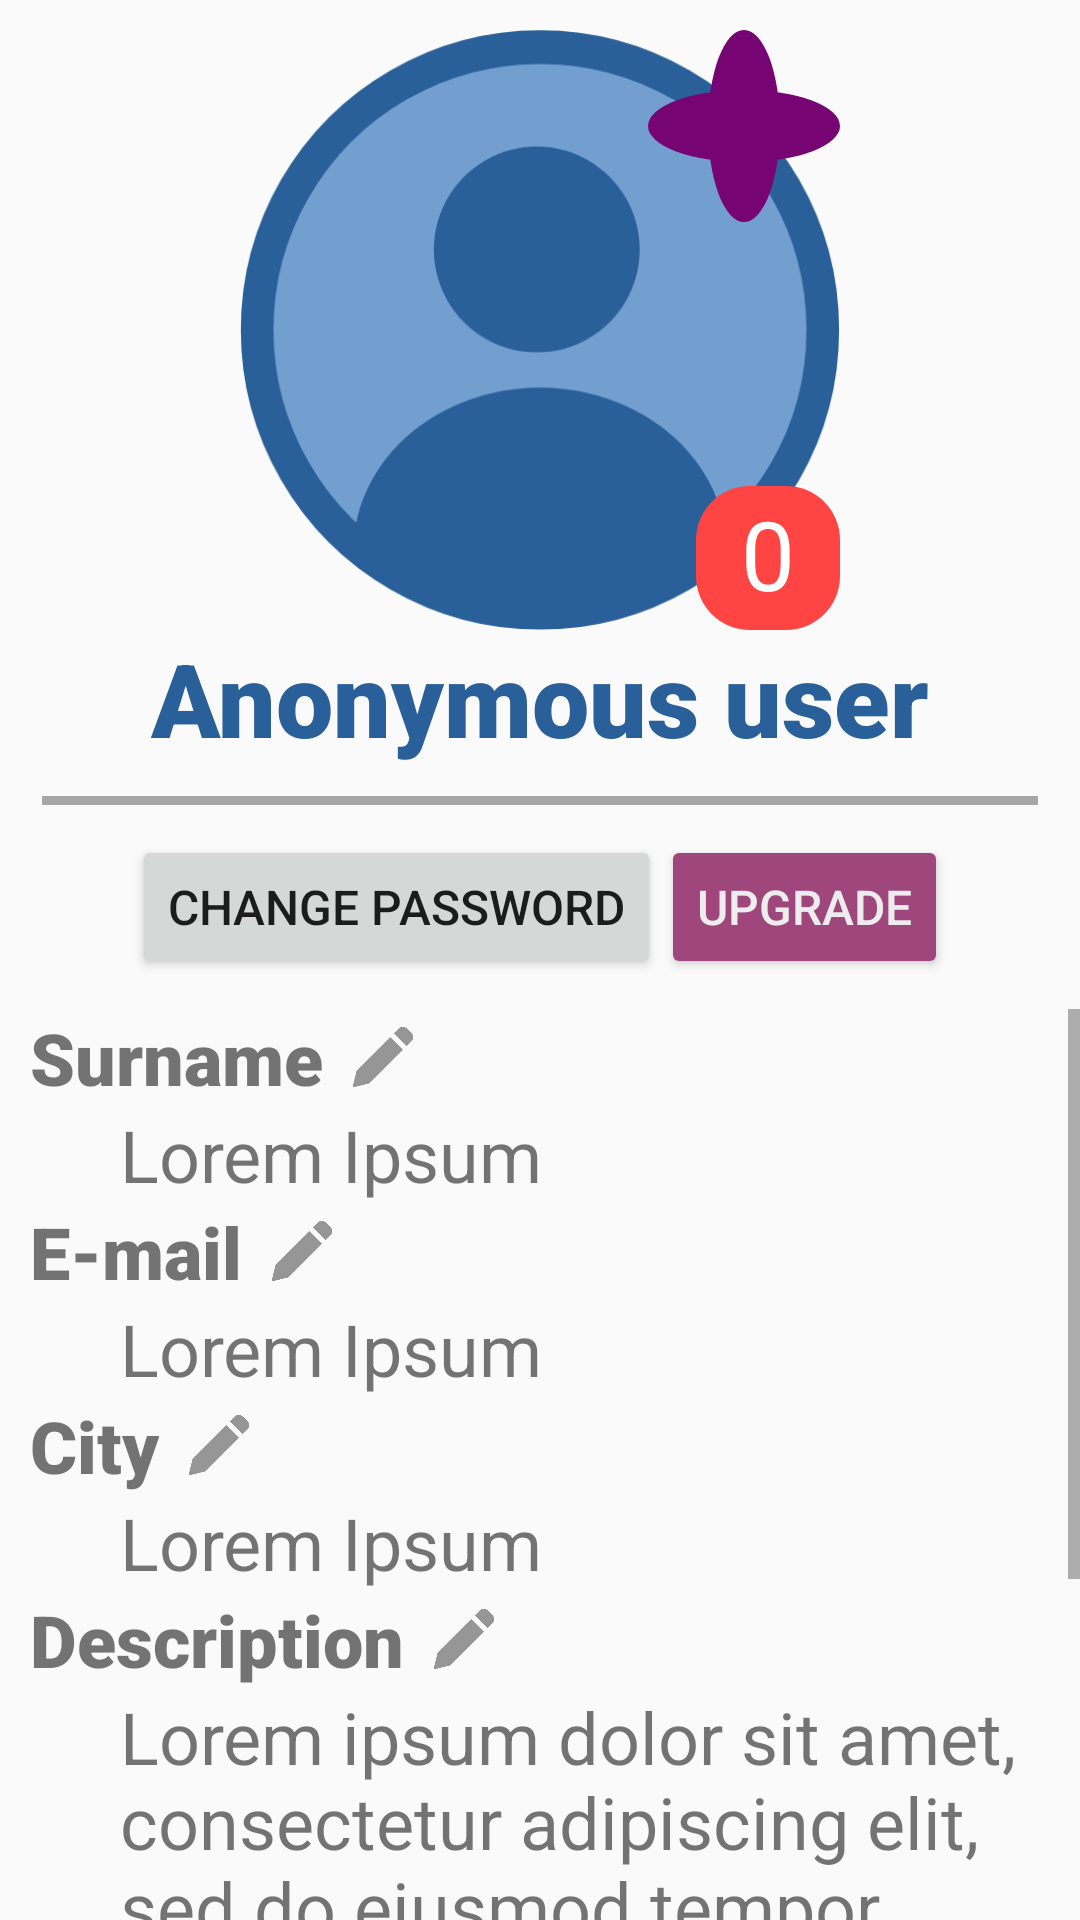

Icon click points for this 1080 × 1920 phone screenshot, format point (x, y):
pencil: point (383, 1057), point (302, 1251), point (219, 1445), point (464, 1639)
